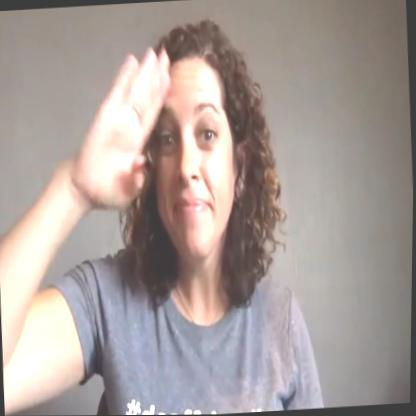Hello: (41, 0, 275, 315)
